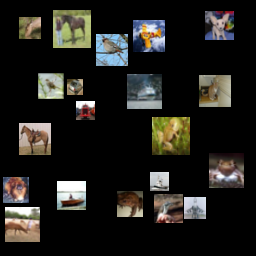airplane: (133, 20, 165, 52), (184, 197, 206, 219)
automobile: (67, 79, 83, 95)
bird: (96, 34, 128, 66), (154, 194, 183, 223), (38, 73, 64, 99)
cat: (199, 75, 231, 107)
deer: (5, 207, 40, 242), (19, 17, 41, 39)
dog: (205, 11, 234, 40), (3, 177, 29, 203)
frog: (152, 117, 190, 155), (209, 153, 244, 188), (117, 191, 143, 217)
ship: (127, 74, 162, 109), (57, 181, 86, 210), (150, 172, 169, 191)
